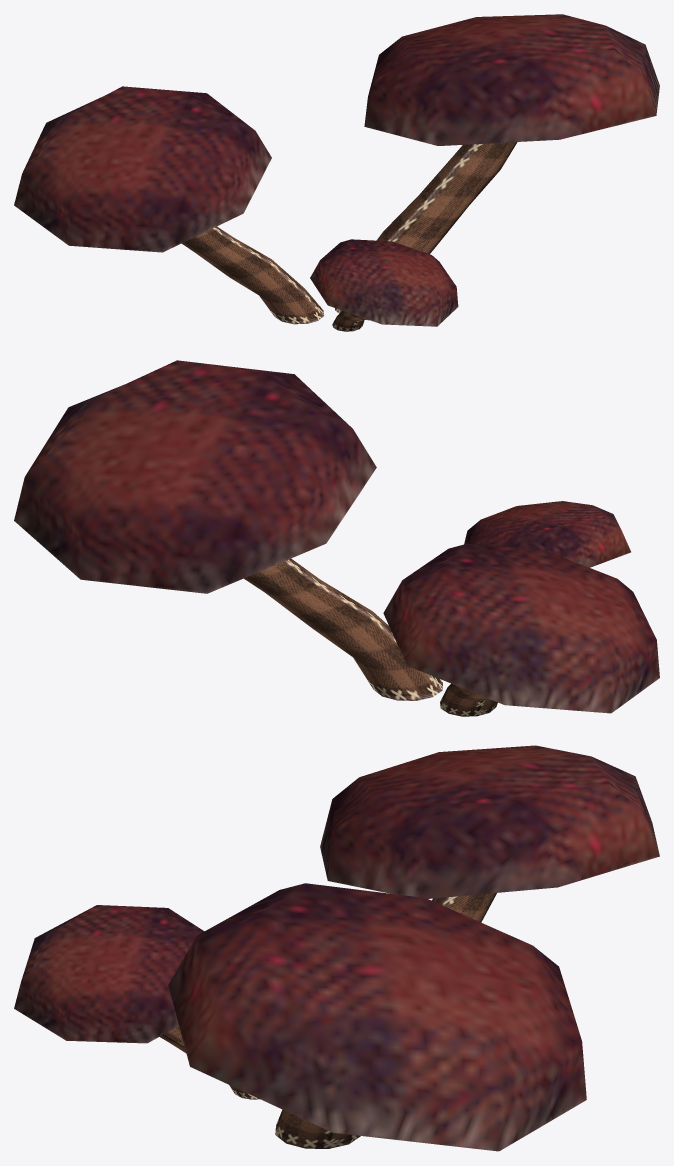
File: lpb_cs_shroom1.fbx
3 renders of one model, top to bottom at view 1: azimuth 30°, elevation 25°; view 2: azimuth 150°, elevation 25°; view 3: azimuth 270°, elevation 25°, orthographic. The views are drawn at different scales.
Visible parts, largest first — view 1: lpb_cs_shroom1; view 2: lpb_cs_shroom1; view 3: lpb_cs_shroom1.
Boxes of the visible parts, x1,y1,x2,y2 form: lpb_cs_shroom1: [14, 14, 659, 331]; lpb_cs_shroom1: [14, 360, 659, 716]; lpb_cs_shroom1: [14, 745, 659, 1151].
Bounding box in the file's own units: 92.57 × 35.16 × 65.37.
